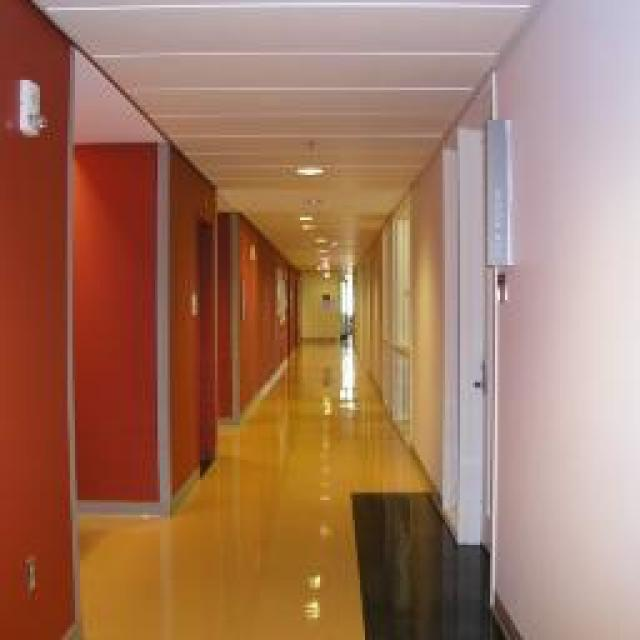ceiling beam: (30, 2, 538, 275), (72, 52, 160, 140)
floor -X: (80, 342, 502, 640)
light fixture: (18, 75, 52, 135), (282, 158, 330, 182)
object: (480, 115, 515, 270)
wall clock: (352, 0, 638, 638), (2, 0, 80, 640), (172, 152, 300, 510), (75, 140, 170, 515), (298, 280, 345, 340)
